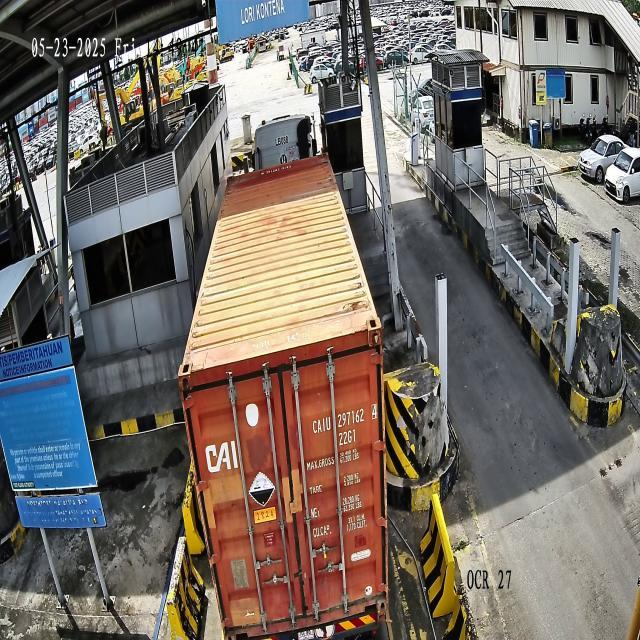ISO: (335, 424, 358, 449)
container_number: (310, 400, 380, 434)
